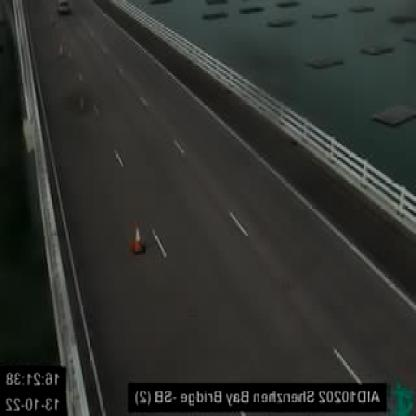Car: (54, 0, 71, 15)
